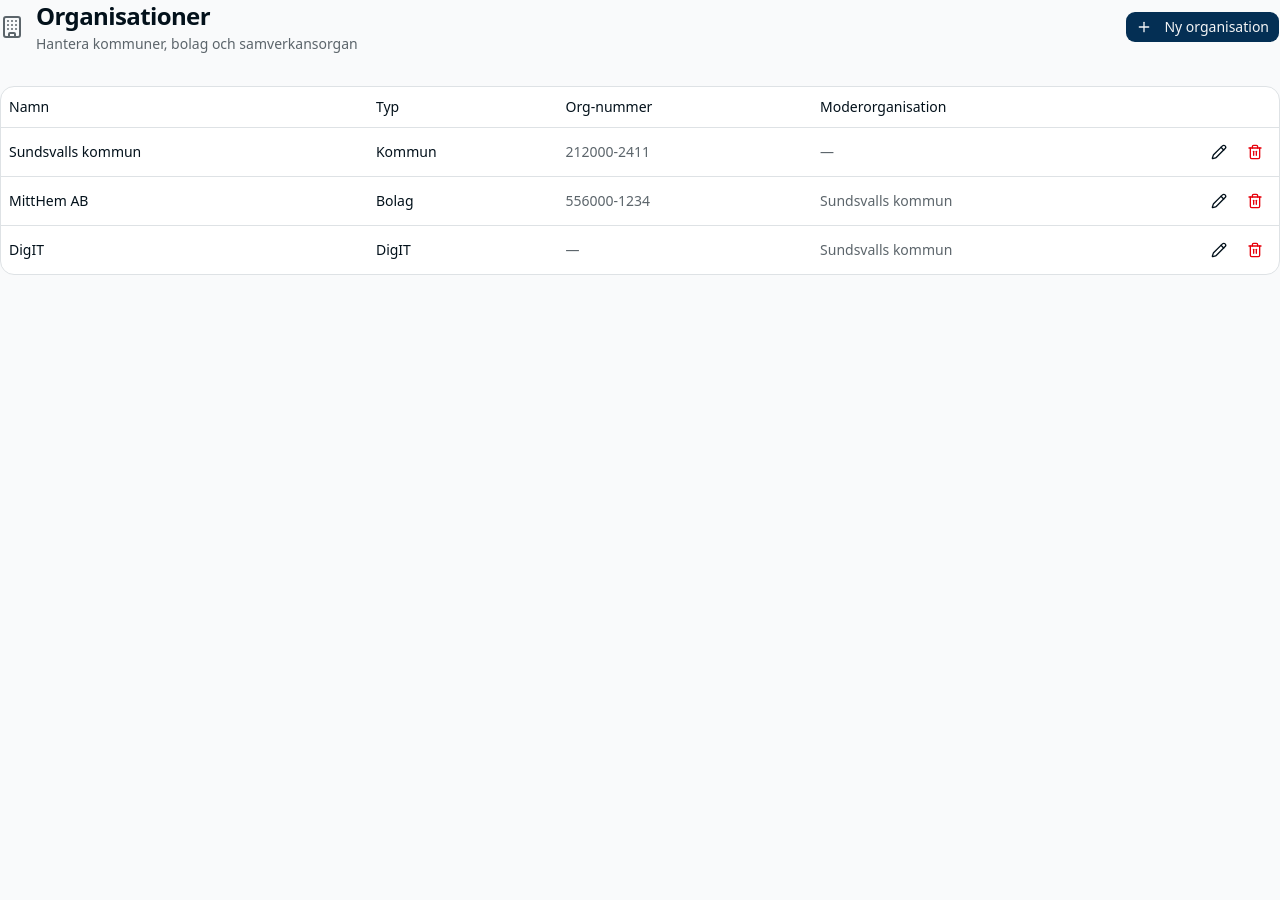
it: OrganizationsPage › Redigera organisation › öppnar redigeringsdialog med befintliga värden
The width and height of the screenshot is (1280, 900).
What coordinates should you click on to do the following:
click the button named "redigera sundsvalls kommun"
I would click on:
 (1219, 152)
Its box is [1203, 136, 1235, 168].
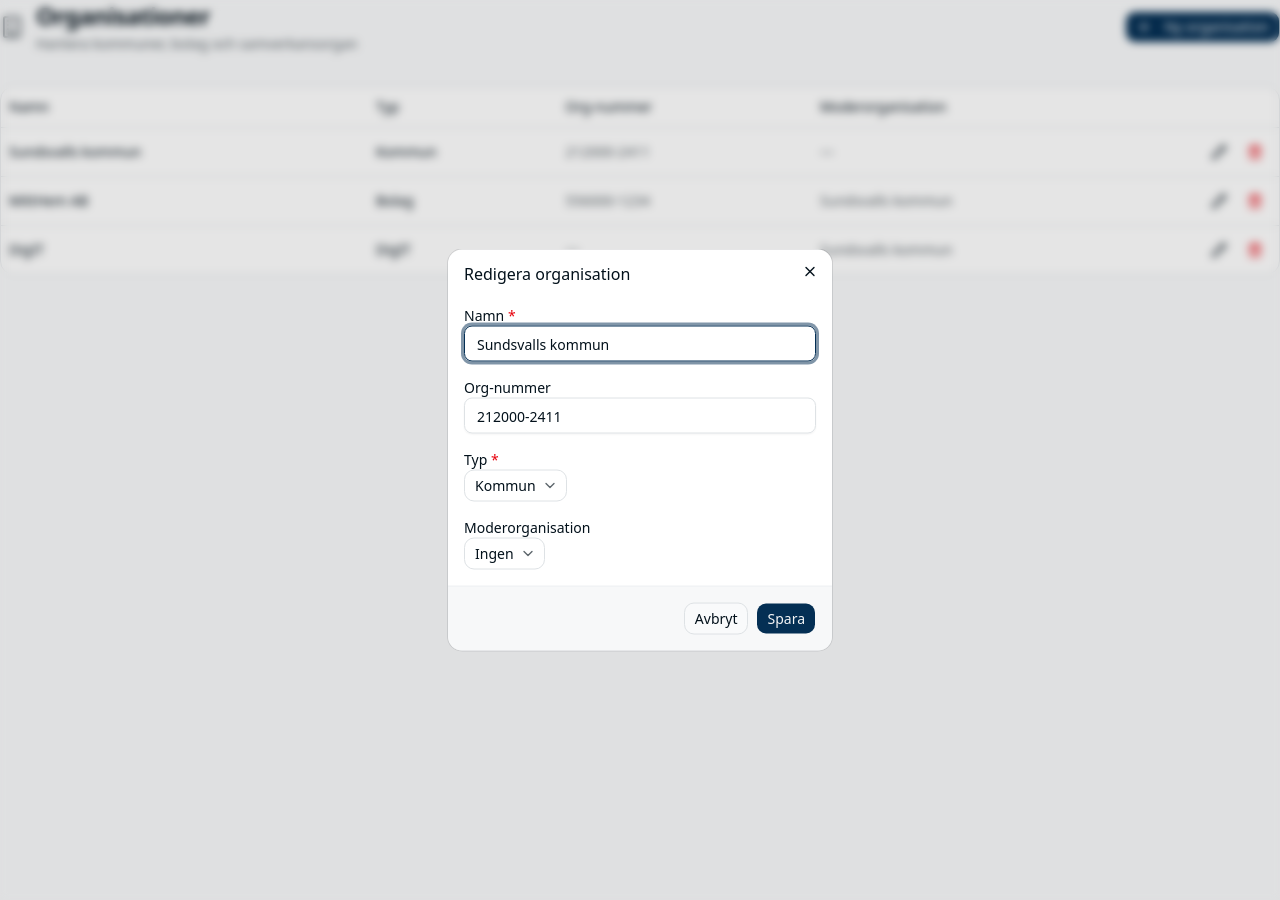
Result: the heading "Redigera organisation" is shown at [464, 262, 630, 284]
